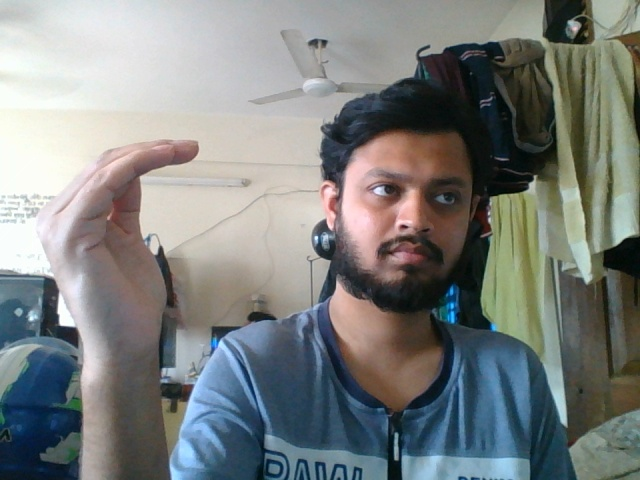ga: (29, 134, 210, 429)
